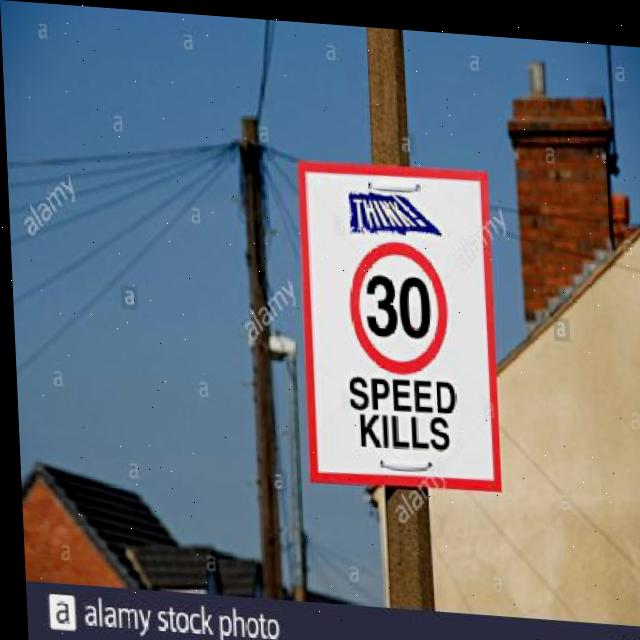Speed limit 30: (328, 232, 480, 383)
